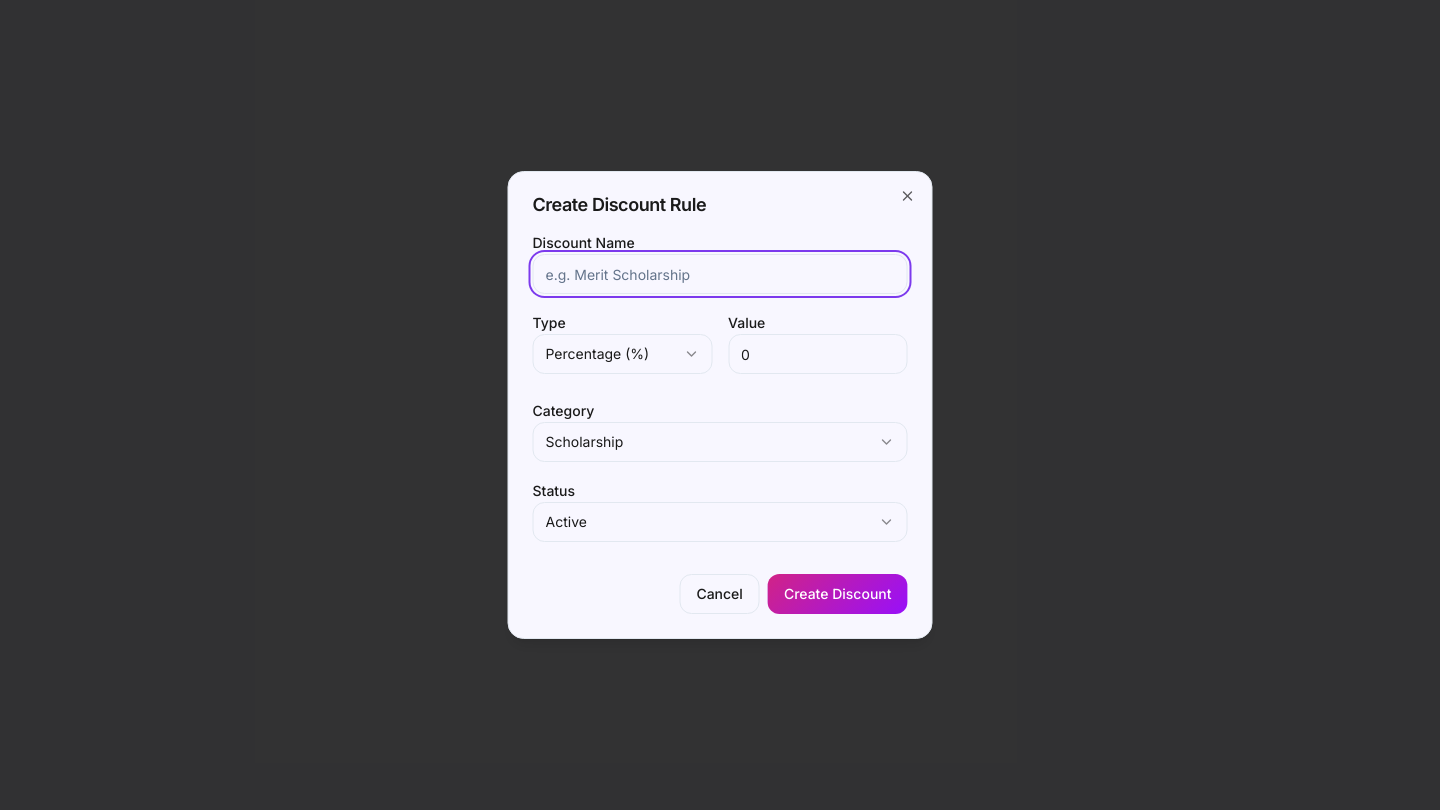
CreateDiscountDialog › shows a validation error when the discount name is too short
The width and height of the screenshot is (1440, 810).
Click the button "Create Discount" at (838, 594), box [768,574,908,614]
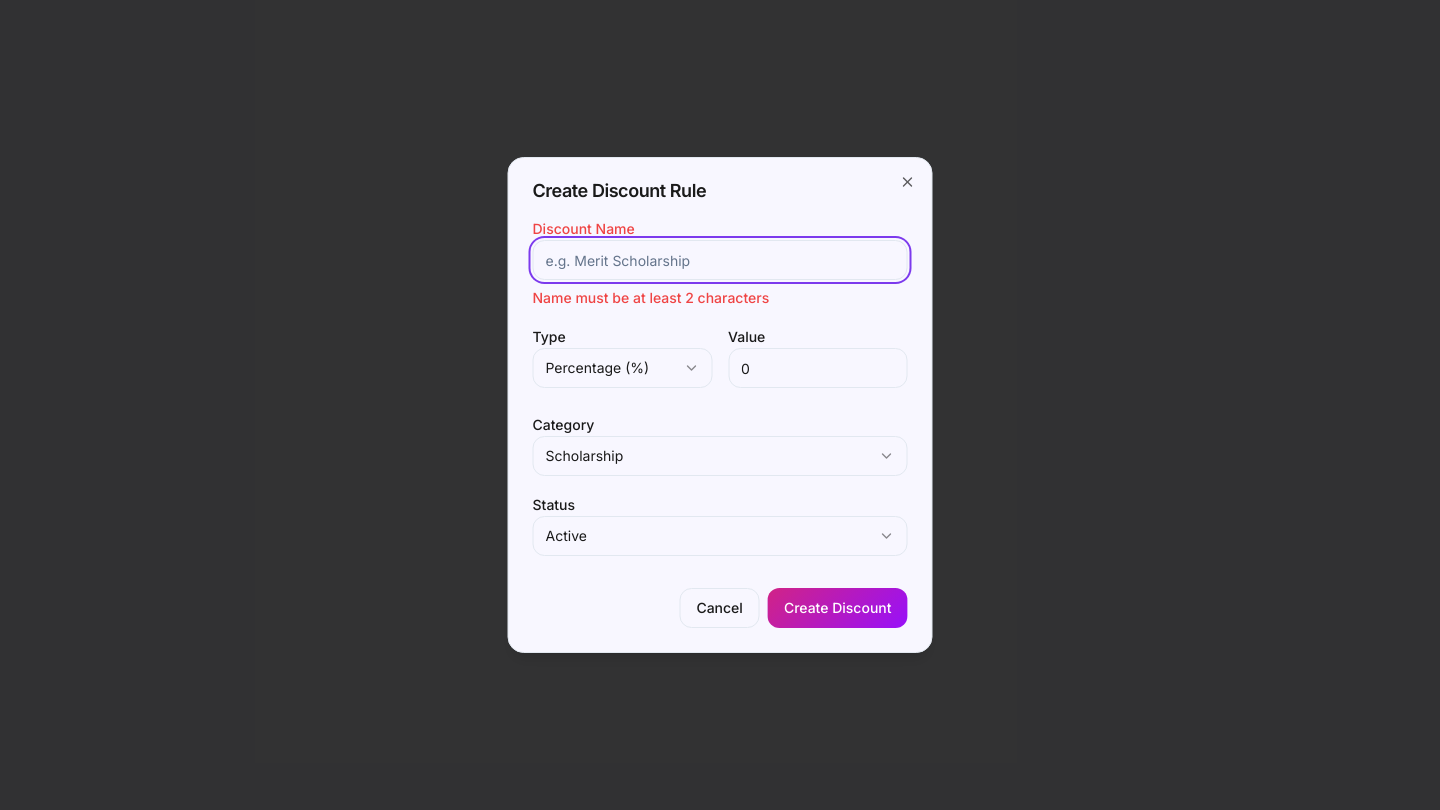
Now the text "Name must be at least 2 characters" is shown, box [532,289,769,306]
